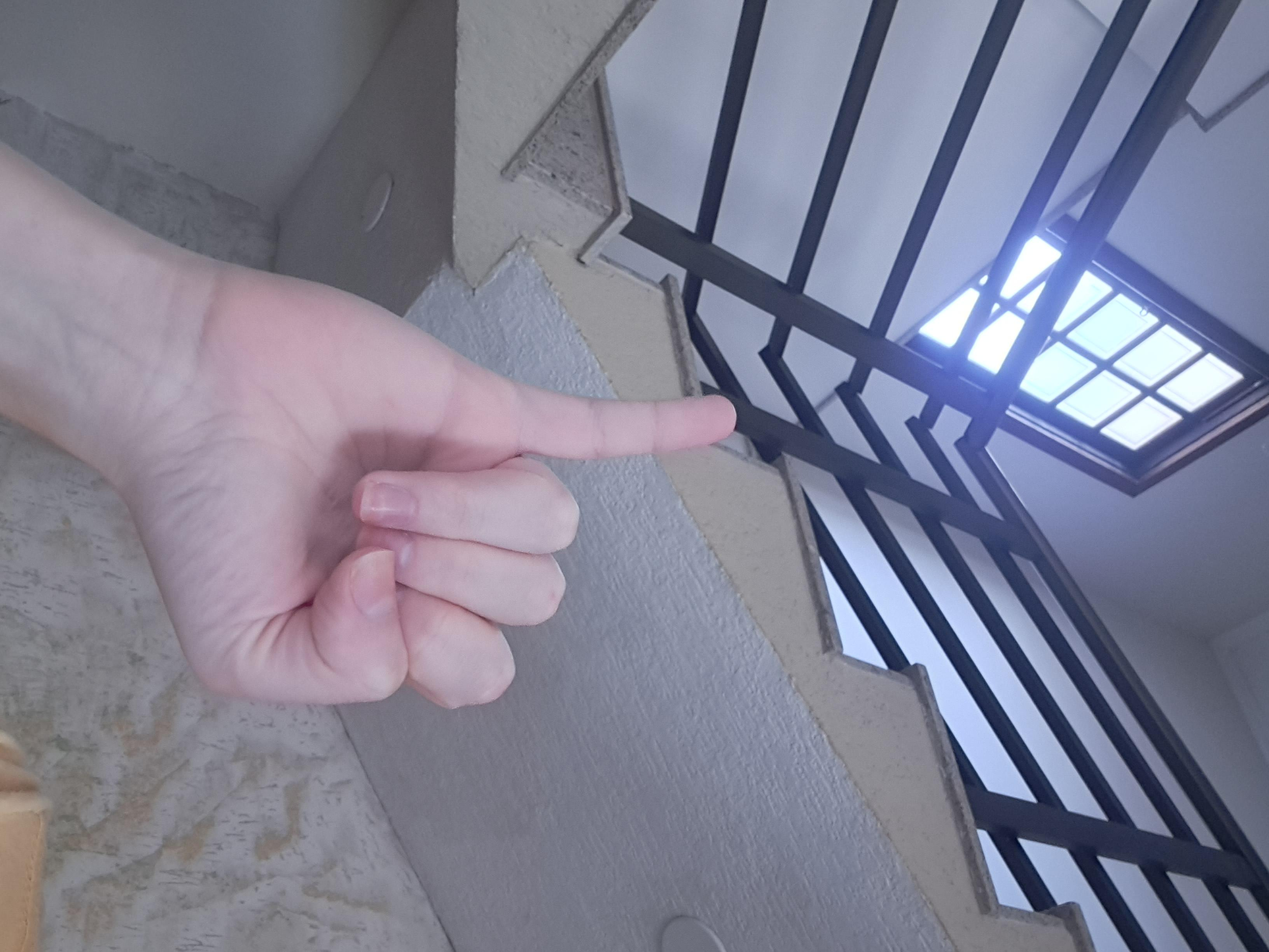I: (363, 382, 990, 875)
